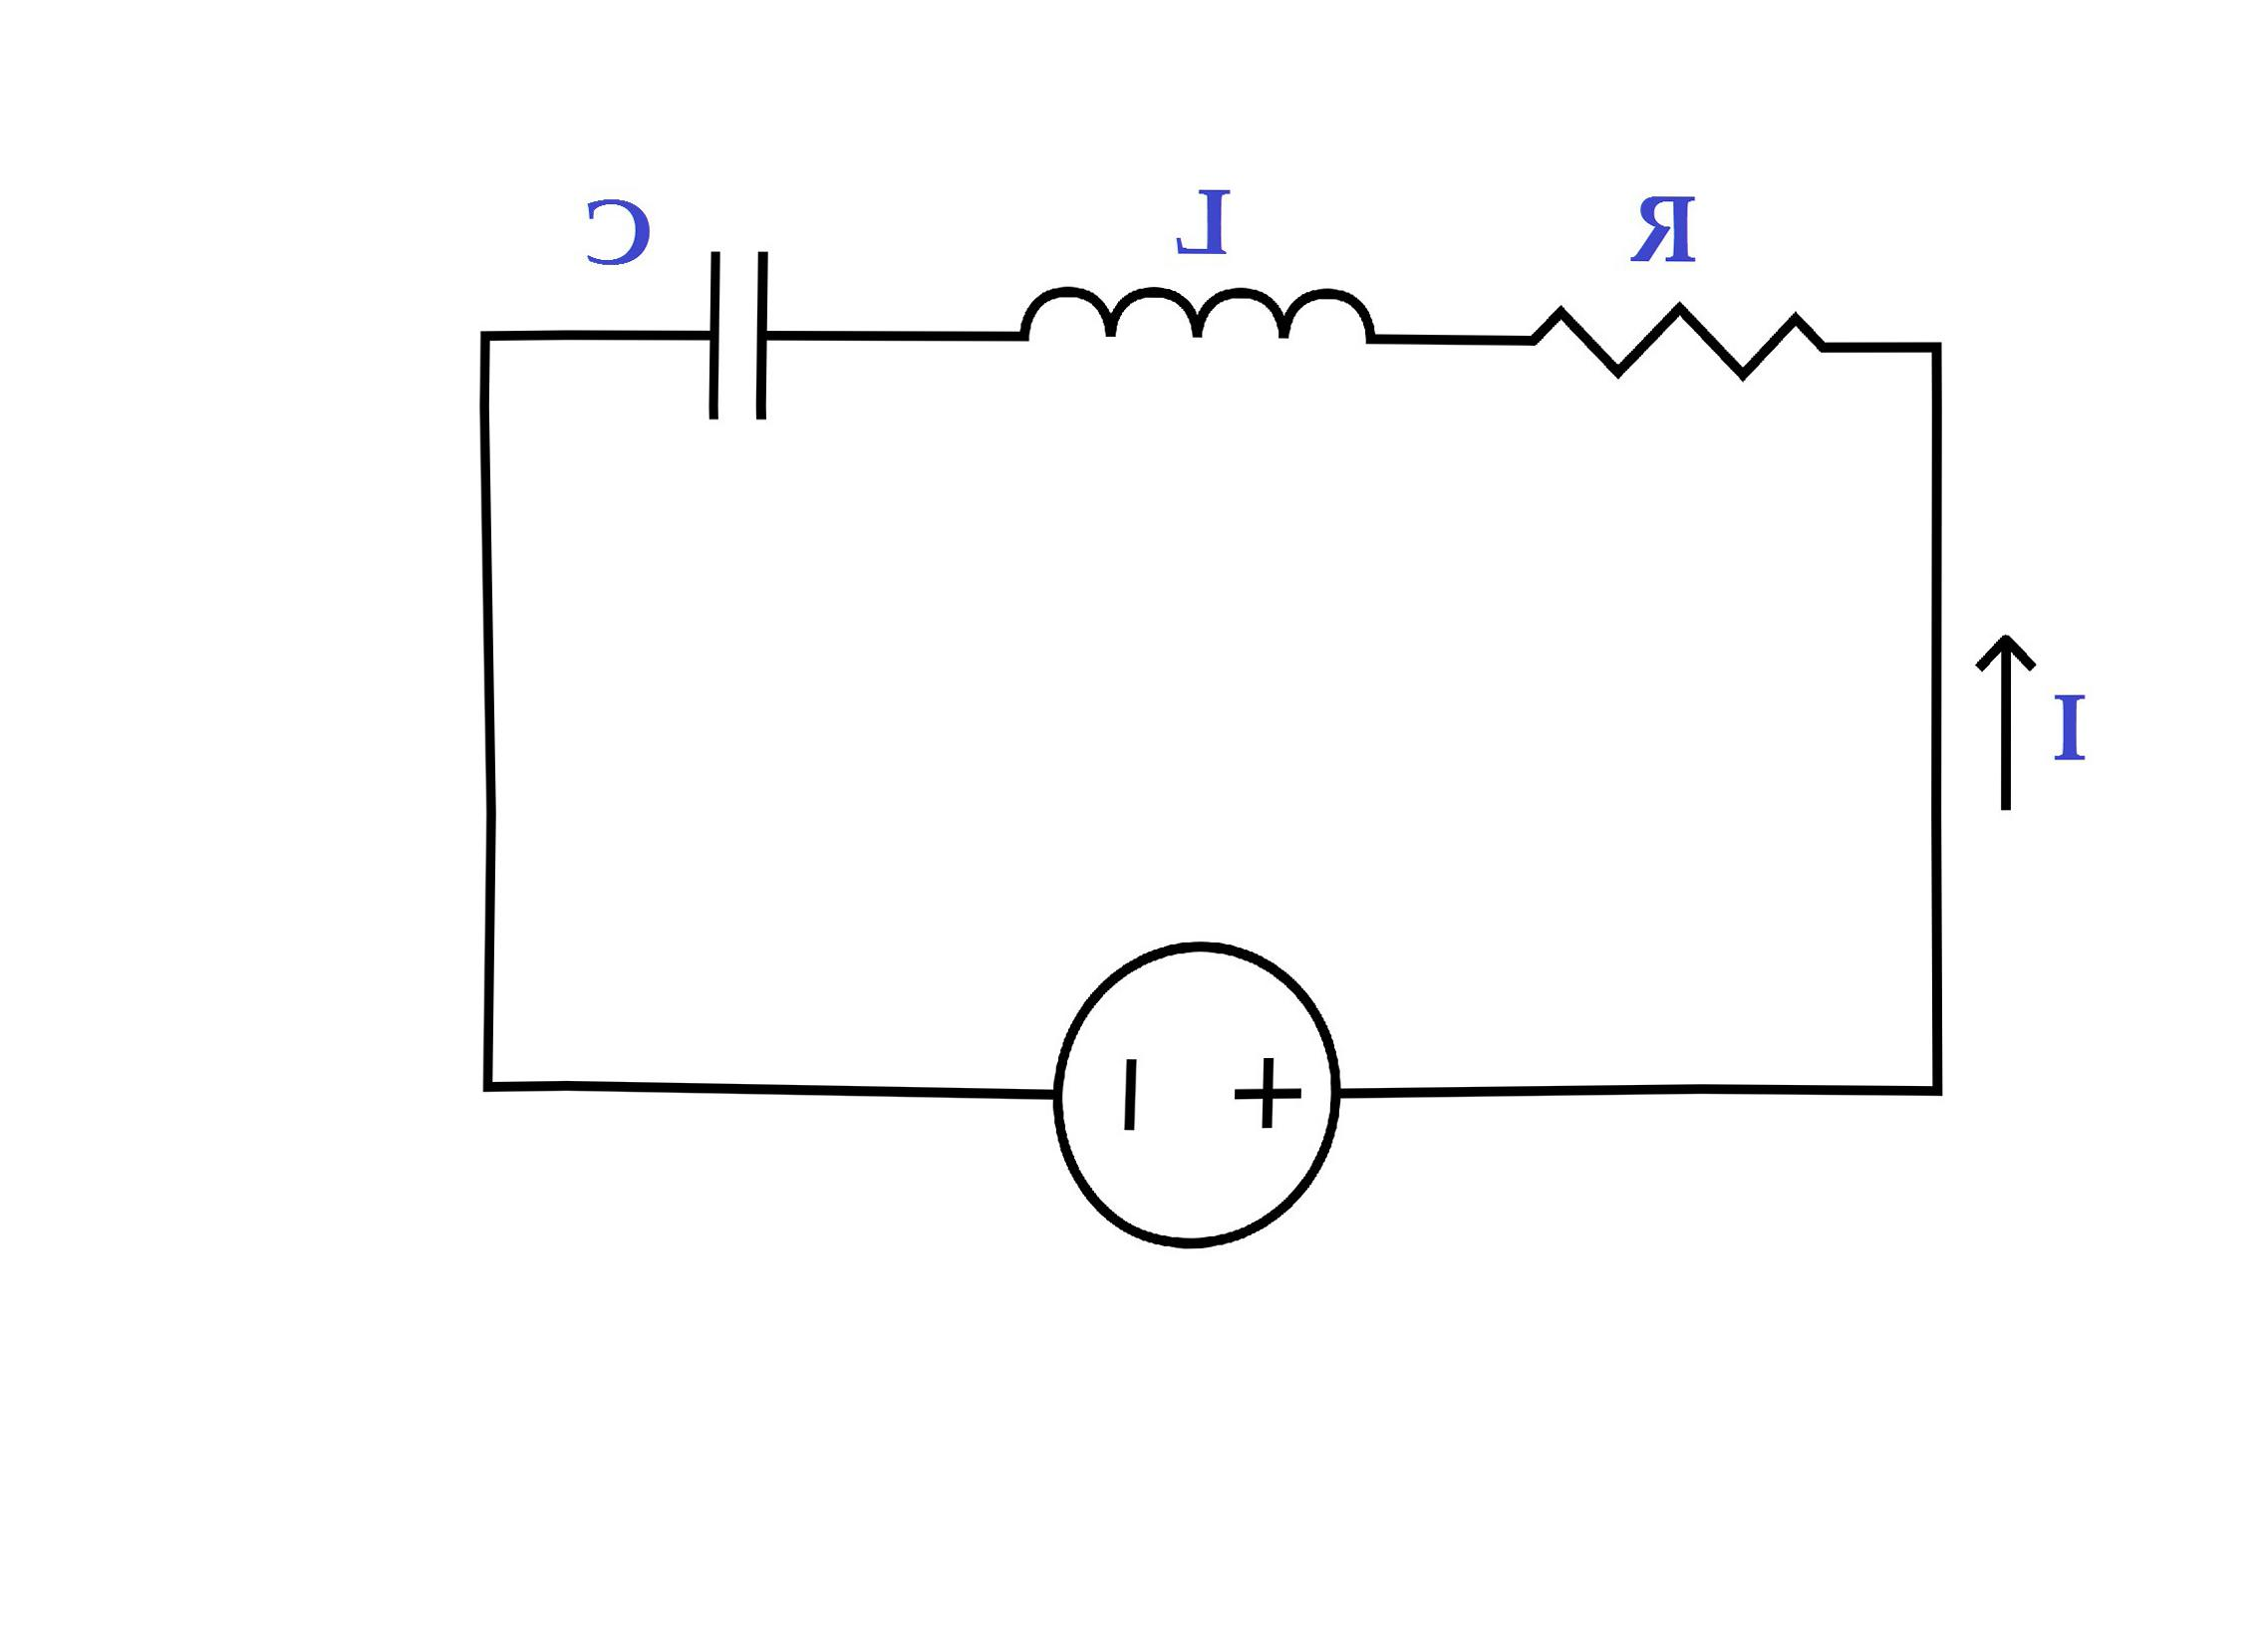Battery: (950, 897, 1430, 1290)
